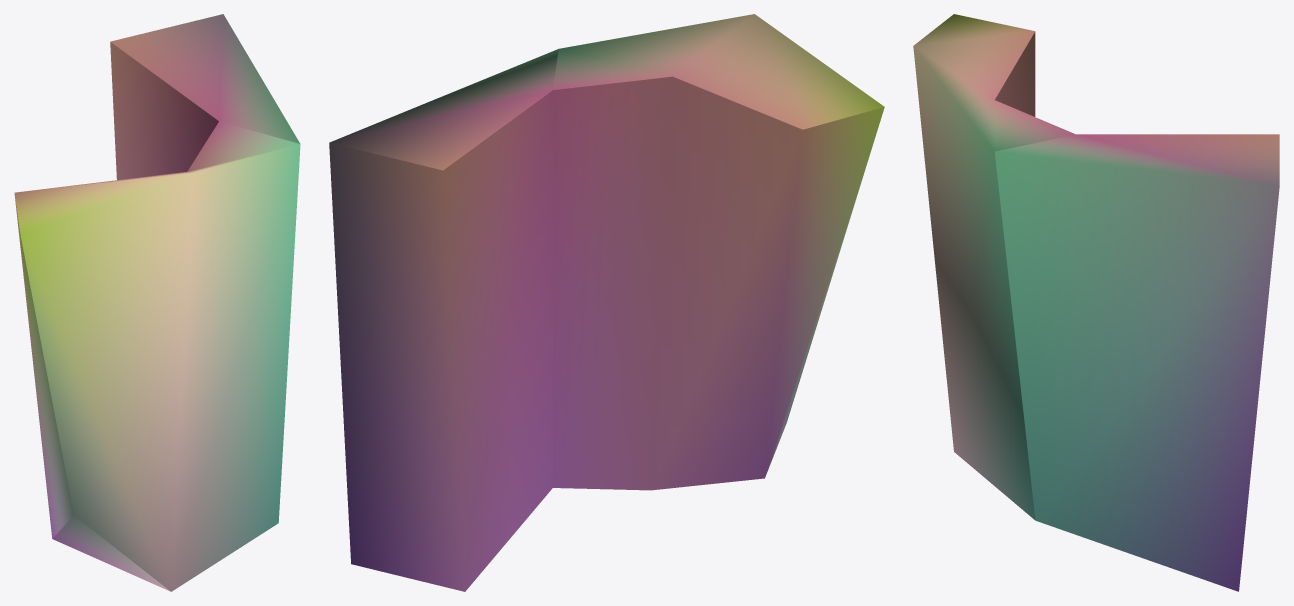
The picture shows the model from 3 angles, left to right: view 1: azimuth 30°, elevation 25°; view 2: azimuth 150°, elevation 25°; view 3: azimuth 270°, elevation 25°; orthographic projection. The views are drawn at different scales.
Parts seen in each view (by area): view 1: part; view 2: part; view 3: part.
Boxes of the visible parts, x1,y1,x2,y2 form: part: (14, 14, 300, 591); part: (329, 14, 884, 591); part: (913, 14, 1279, 591).
Bounding box in the file's own units: 10 × 12 × 9.
